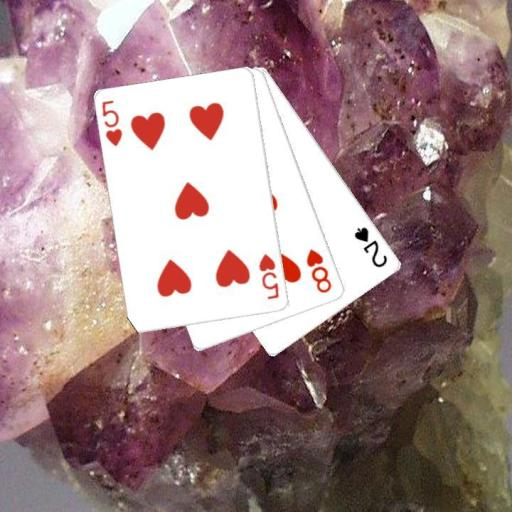2S: (351, 224, 390, 270)
5H: (99, 97, 124, 149), (256, 251, 281, 302)
8H: (303, 245, 333, 295)
